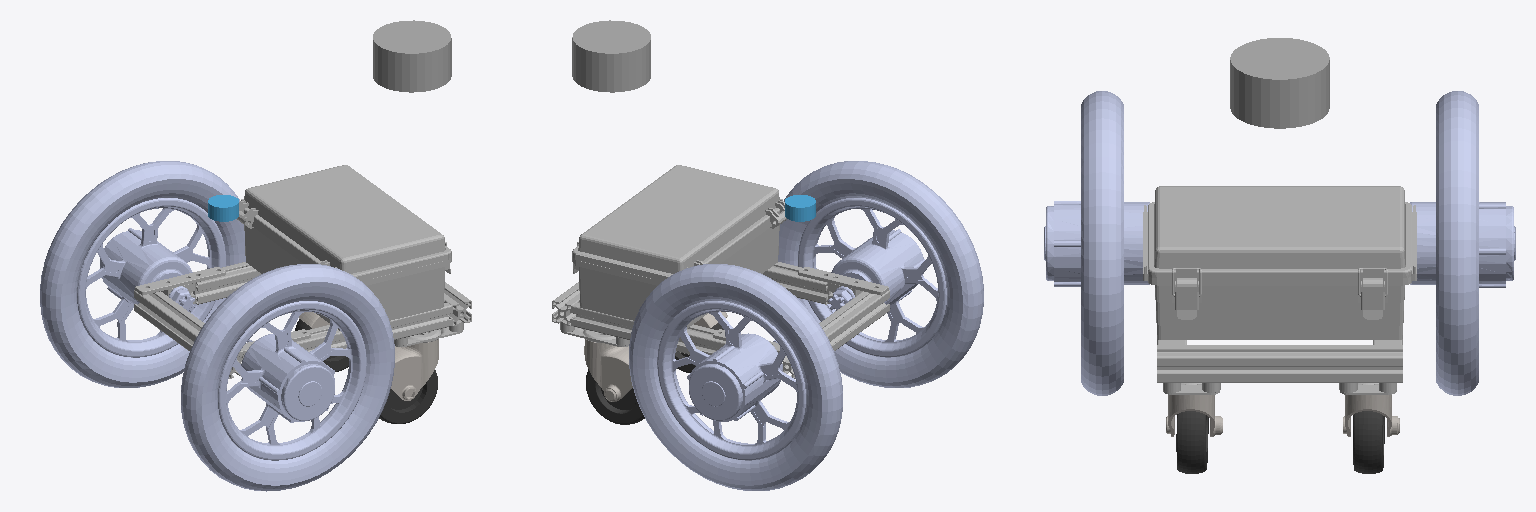
URDF robot description (atcart_basic_gazebo):
<?xml version="1.0" encoding="utf-8"?>
<!-- This URDF was automatically created by SolidWorks to URDF Exporter! Originally created by [author] ([email redacted]) 
     Commit Version: 1.6.0-1-g15f4949  Build Version: 1.6.7594.29634
     For more information, please see http://wiki.ros.org/sw_urdf_exporter -->
<robot
  name="atcart_basic_gazebo">
  <link
    name="base_link">
    <inertial>
      <origin
        xyz="-0.0072165 -9.8416E-11 0.049749"
        rpy="0 0 0" />
      <mass
        value="5.7003" />
      <inertia
        ixx="0.045977"
        ixy="-5.8538E-09"
        ixz="-0.00017433"
        iyy="0.02225"
        iyz="-1.2093E-10"
        izz="0.062715" />
    </inertial>
    <visual>
      <origin
        xyz="0 0 0"
        rpy="0 0 0" />
      <geometry>
        <mesh
          filename="package://atcart_basic_gazebo/meshes/base_link.STL" />
      </geometry>
      <material
        name="">
        <color
          rgba="0.75294 0.75294 0.75294 1" />
      </material>
    </visual>
    <collision>
      <origin
        xyz="-0.09 0 0.044"
        rpy="0 0 0" />
      <geometry>
        <box size="0.48 0.26 0.18"/>
      </geometry>
    </collision>
  </link>
  <link
    name="caster_holder_left">
    <inertial>
      <origin
        xyz="-0.02177 0.0014053 0.046067"
        rpy="0 0 0" />
      <mass
        value="0.32044" />
      <inertia
        ixx="0.00025526"
        ixy="3.2464E-06"
        ixz="-5.7646E-05"
        iyy="0.00031844"
        iyz="1.5351E-05"
        izz="0.00028574" />
    </inertial>
    <visual>
      <origin
        xyz="0 0 0"
        rpy="0 0 0" />
      <geometry>
        <mesh
          filename="package://atcart_basic_gazebo/meshes/caster_holder_left.STL" />
      </geometry>
      <material
        name="">
        <color
          rgba="0.77647 0.75686 0.73725 1" />
      </material>
    </visual>
    <collision>
      <origin
        xyz="0 0 0.07"
        rpy="0 0 0" />
      <geometry>
        <cylinder length="0.025" radius="0.03"/>
      </geometry>
    </collision>
  </link>
  <joint
    name="caster_holder_left_joint"
    type="continuous">
    <origin
      xyz="0.061 0.09 -0.1283"
      rpy="0 0 -0.02603" />
    <parent
      link="base_link" />
    <child
      link="caster_holder_left" />
    <axis
      xyz="0 0 1" />
  </joint>
  <link
    name="caster_wheel_left">
    <inertial>
      <origin
        xyz="-5.55111512312578E-17 0 3.6943163319314E-06"
        rpy="0 0 0" />
      <mass
        value="0.192088631471314" />
      <inertia
        ixx="0.000151182469566071"
        ixy="-6.99354014046243E-34"
        ixz="5.57175414480924E-19"
        iyy="0.000151182469566071"
        iyz="-1.53010454143402E-19"
        izz="0.000279600031953075" />
    </inertial>
    <visual>
      <origin
        xyz="0 0 0"
        rpy="0 0 0" />
      <geometry>
        <mesh
          filename="package://atcart_basic_gazebo/meshes/caster_wheel_left.STL" />
      </geometry>
      <material
        name="">
        <color
          rgba="0.298039215686275 0.298039215686275 0.298039215686275 1" />
      </material>
    </visual>
    <collision>
      <origin
        xyz="0 0 0"
        rpy="0 0 0" />
      <geometry>
        <cylinder length="0.04" radius="0.051"/>
      </geometry>
    </collision>
  </link>
  <joint
    name="caster_wheel_left_joint"
    type="continuous">
    <origin
      xyz="-0.029 0 0.012"
      rpy="1.5708 0 0" />
    <parent
      link="caster_holder_left" />
    <child
      link="caster_wheel_left" />
    <axis
      xyz="0 0 -1" />
  </joint>
  <link
    name="caster_holder_right">
    <inertial>
      <origin
        xyz="-0.0217591852847827 0.00155718746772504 0.0460672350911227"
        rpy="0 0 0" />
      <mass
        value="0.320441099388755" />
      <inertia
        ixx="0.000255304046268681"
        ixy="3.68752178239491E-06"
        ixz="-5.75374331188915E-05"
        iyy="0.000318389436371272"
        iyz="1.57528610382236E-05"
        izz="0.000285734524653862" />
    </inertial>
    <visual>
      <origin
        xyz="0 0 0"
        rpy="0 0 0" />
      <geometry>
        <mesh
          filename="package://atcart_basic_gazebo/meshes/caster_holder_right.STL" />
      </geometry>
      <material
        name="">
        <color
          rgba="0.776470588235294 0.756862745098039 0.737254901960784 1" />
      </material>
    </visual>
    <collision>
      <origin
        xyz="0 0 0.07"
        rpy="0 0 0" />
      <geometry>
        <cylinder length="0.025" radius="0.03"/>
      </geometry>
    </collision>
  </link>
  <joint
    name="caster_holder_right_joint"
    type="continuous">
    <origin
      xyz="0.061 -0.09 -0.1283"
      rpy="0 0 -0.02603" />
    <parent
      link="base_link" />
    <child
      link="caster_holder_right" />
    <axis
      xyz="0 0 1" />
  </joint>
  <link
    name="caster_wheel_right">
    <inertial>
      <origin
        xyz="5.55111512312578E-17 2.77555756156289E-17 3.69431633334694E-06"
        rpy="0 0 0" />
      <mass
        value="0.192088631471313" />
      <inertia
        ixx="0.000151182469566071"
        ixy="-5.54803946229349E-35"
        ixz="-1.74171149779166E-19"
        iyy="0.000151182469566071"
        iyz="-3.35336884180025E-21"
        izz="0.000279600031953075" />
    </inertial>
    <visual>
      <origin
        xyz="0 0 0"
        rpy="0 0 0" />
      <geometry>
        <mesh
          filename="package://atcart_basic_gazebo/meshes/caster_wheel_right.STL" />
      </geometry>
      <material
        name="">
        <color
          rgba="0.298039215686275 0.298039215686275 0.298039215686275 1" />
      </material>
    </visual>
    <collision>
      <origin
        xyz="0 0 0"
        rpy="0 0 0" />
      <geometry>
        <cylinder length="0.04" radius="0.051"/>
      </geometry>
    </collision>
  </link>
  <joint
    name="caster_wheel_right_joint"
    type="continuous">
    <origin
      xyz="-0.028999 0.00020234 0.012"
      rpy="1.5708 0 -0.0069773" />
    <parent
      link="caster_holder_right" />
    <child
      link="caster_wheel_right" />
    <axis
      xyz="0 0 -1" />
  </joint>
  <link
    name="rear_wheel_left">
    <inertial>
      <origin
        xyz="1.42238878086953E-06 3.65240566235769E-07 0.035018661539531"
        rpy="0 0 0" />
      <mass
        value="2.28211944233861" />
      <inertia
        ixx="0.0148991041334707"
        ixy="-1.49538564040222E-11"
        ixz="-2.45298120595338E-07"
        iyy="0.0148991148755385"
        iyz="-8.73898019013882E-09"
        izz="0.0280100112156707" />
    </inertial>
    <visual>
      <origin
        xyz="0 0 0"
        rpy="0 0 0" />
      <geometry>
        <mesh
          filename="package://atcart_basic_gazebo/meshes/rear_wheel_left.STL" />
      </geometry>
      <material
        name="">
        <color
          rgba="0.792156862745098 0.819607843137255 0.933333333333333 1" />
      </material>
    </visual>
    <collision>
      <origin
        xyz="0 0.0 0.03"
        rpy="0 0 0" />
      <geometry>
        <cylinder length="0.1143" radius="0.16"/>
      </geometry>
    </collision>
  </link>
  <joint
    name="rear_wheel_left_joint"
    type="continuous">
    <origin
      xyz="-0.189 0.21606 -0.015"
      rpy="1.5708 0.071178 0" />
    <parent
      link="base_link" />
    <child
      link="rear_wheel_left" />
    <axis
      xyz="0 0 -1" />
  </joint>
  <link
    name="rear_wheel_right">
    <inertial>
      <origin
        xyz="1.4236E-06 -3.6567E-07 0.10553"
        rpy="0 0 0" />
      <mass
        value="2.2821" />
      <inertia
        ixx="0.014899"
        ixy="-1.2769E-11"
        ixz="2.4534E-07"
        iyy="0.014899"
        iyz="-8.7567E-09"
        izz="0.02801" />
    </inertial>
    <visual>
      <origin
        xyz="0 0 0"
        rpy="0 0 0" />
      <geometry>
        <mesh
          filename="package://atcart_basic_gazebo/meshes/rear_wheel_right.STL" />
      </geometry>
      <material
        name="">
        <color
          rgba="0.79216 0.81961 0.93333 1" />
      </material>
    </visual>
    <collision>
      <origin
        xyz="0 0 0.11"
        rpy="0 0 0" />
      <geometry>
        <cylinder length="0.1143" radius="0.16"/>
      </geometry>
    </collision>
  </link>
  <joint
    name="rear_wheel_right_joint"
    type="continuous">
    <origin
      xyz="-0.189 -0.075512 -0.015"
      rpy="1.5708 -0.74326 0" />
    <parent
      link="base_link" />
    <child
      link="rear_wheel_right" />
    <axis
      xyz="0 0 -1" />
  </joint>

  <!-- Lidar link and joint -->
  <link name="lidar_link">
    <inertial>
      <origin xyz="0 0 0" rpy="0 0 0"/>
      <mass value="0.01"/>
      <inertia ixx="0.00001"  ixy="0"  ixz="0" iyy="0.00001" iyz="0" izz="0.00001" />
    </inertial>

    <collision>
      <origin xyz="0 0 0" rpy="0 0 0"/>
      <geometry>
         <cylinder radius="0.0508" length="0.055"/>
      </geometry>
    </collision>

    <visual>
      <origin xyz="0 0 0" rpy="0 0 0"/>
      <geometry>
         <cylinder radius="0.0508" length="0.055"/>
      </geometry>
    </visual>
  </link>
  <joint name="lidar_joint" type="fixed">
    <parent link="base_link"/>
    <child link="lidar_link"/>
    <origin xyz="0.1 0.0 0.3" rpy="0 0 0"/>
  </joint>

  <!-- IMU link and joint -->
  <link name="imu_link" />
  <joint name="imu_joint" type="fixed">
    <parent link="base_link" />
    <child link="imu_link" />
  </joint>

  <link name="gps1">
    <inertial>
      <origin xyz="0 0 0" rpy="0 0 0"/>
      <mass value="0.01"/>
      <inertia ixx="0.00001"  ixy="0"  ixz="0" iyy="0.00001" iyz="0" izz="0.00001" />
    </inertial>

    <collision>
      <origin xyz="0 0 0" rpy="0 0 0"/>
      <geometry>
         <cylinder radius="0.020" length="0.020"/>
      </geometry>
    </collision>

    <visual>
      <origin xyz="0 0 0" rpy="0 0 0"/>
      <geometry>
         <cylinder radius="0.020" length="0.020"/>
      </geometry>
    </visual>
  </link>
  <joint name="gps_joint" type="fixed">
    <parent link="base_link"/>
    <child link="gps1"/>
    <origin xyz="-0.18 0.0 0.15" rpy="0 0 0"/>
  </joint>

  <gazebo>
    <plugin name="differential_drive_controller" filename="libgazebo_ros_diff_drive.so">
      <alwaysOn>true</alwaysOn>
      <updateRate>40</updateRate>
      <legacyMode>false</legacyMode>
      <leftJoint>rear_wheel_left_joint</leftJoint>
      <rightJoint>rear_wheel_right_joint</rightJoint>
      <wheelSeparation>0.362</wheelSeparation>
      <wheelDiameter>0.310</wheelDiameter>
      <torque>30</torque>
      <commandTopic>cmd_vel</commandTopic>
      <odometryTopic>odom</odometryTopic>
      <odometryFrame>odom</odometryFrame>
      <robotBaseFrame>base_link</robotBaseFrame>
      <publishWheelTF>false</publishWheelTF>
      <publishWheelJointState>false</publishWheelJointState>
      <rosDebugLevel>na</rosDebugLevel>
      <wheelAcceleration>0</wheelAcceleration>
      <wheelTorque>30</wheelTorque>
      <odometrySource>world</odometrySource>
      <publishOdomTF>true</publishOdomTF>
      <publishTf>1</publishTf>
    </plugin>
  </gazebo>


  <gazebo reference="lidar_link">
    <sensor name="lidar" type="gpu_ray">
      <always_on>true</always_on>
      <visualize>false</visualize>
      <update_rate>5</update_rate>
      <ray>
        <scan>
          <horizontal>
            <samples>2019</samples>
            <resolution>1.000000</resolution>
            <min_angle>-3.14159274101</min_angle>
            <max_angle>3.14159274101</max_angle>
          </horizontal>
        </scan>
        <range>
          <min>0.100000</min>
          <max>30.0</max>
          <resolution>0.015000</resolution>
        </range>
        <noise>
          <type>gaussian</type>
          <mean>0.0</mean>
          <stddev>0.01</stddev>
        </noise>
      </ray>
      <!-- <plugin name="scan" filename="libgazebo_ros_ray_sensor.so"> -->
      <!-- this answer seems to make scan topic appear on ros https://answers.ros.org/question/273492/laserscanner-in-gazebo-does-not-publish-data-while-topic-is-set/ -->
      <!-- <plugin name="scan" filename="libgazebo_ros_laser.so"> -->
      <plugin name="scan" filename="libgazebo_ros_gpu_laser.so">
        <!-- <ros>
          <remapping>~/out:=scan</remapping>
        </ros>
        <output_type>sensor_msgs/LaserScan</output_type> -->
        <topicName>scan</topicName>
        <frame_name>lidar_link</frame_name>
      </plugin>
    </sensor>
  </gazebo>

  <gazebo reference="imu_link">
    <sensor name="imu_sensor" type="imu">
      <always_on>true</always_on>
      <update_rate>100</update_rate>
      <visualize>true</visualize>
      <topic>__default_topic__</topic>
      <plugin filename="libgazebo_ros_imu_sensor.so" name="imu_plugin">
        <topicName>imu</topicName>
        <bodyName>imu_link</bodyName>
        <updateRateHZ>100.0</updateRateHZ>
        <gaussianNoise>0.0</gaussianNoise>
        <xyzOffset>0 0 0</xyzOffset>
        <rpyOffset>0 0 0</rpyOffset>
        <frameName>imu_link</frameName>
        <initialOrientationAsReference>false</initialOrientationAsReference>
      </plugin>
      <pose>0 0 0 0 0 0</pose>
    </sensor>
  </gazebo>

  <gazebo>  
    <plugin name="gps" filename="libhector_gazebo_ros_gps.so">  
      <updateRate>10.0</updateRate>  
      <topicName>ublox/fix</topicName>  
      <gaussianNoise>0.0 0.0 0.0</gaussianNoise>  
      <offset>0 0 0</offset>
      <referenceLatitude>36.1209271</referenceLatitude>
      <referenceLongitude>139.2158217</referenceLongitude>
      <status>2</status>
      <velocityGaussianNoise>0 0 0</velocityGaussianNoise>  
      <velocityTopicName>ublox/fix_velocity_temp</velocityTopicName>
      <frameId>gps_link</frameId>  
    </plugin>  
  </gazebo>

</robot>

--- Facts derived from the render (not from the file) ---
Views: 3 orthographic renders of the robot side by side, from view 1: azimuth 30°, elevation 25°; view 2: azimuth 150°, elevation 25°; view 3: azimuth 270°, elevation 25°.
Model atcart_basic_gazebo with 10 links and 9 joints (6 continuous, 3 fixed), rooted at base_link, posed every joint at zero.
Visible links, largest first — view 1: rear_wheel_right, base_link, rear_wheel_left, lidar_link, caster_holder_right, caster_wheel_right, gps1; view 2: rear_wheel_left, base_link, rear_wheel_right, lidar_link, caster_holder_left, caster_wheel_left, gps1; view 3: base_link, rear_wheel_right, rear_wheel_left, lidar_link, caster_wheel_right, caster_wheel_left, caster_holder_right, caster_holder_left.
Link boxes in pixels (left/top/right/bottom): rear_wheel_right: left=181, top=264, right=394, bottom=491; base_link: left=134, top=165, right=471, bottom=378; rear_wheel_left: left=40, top=161, right=245, bottom=387; lidar_link: left=373, top=20, right=451, bottom=92; caster_holder_right: left=391, top=339, right=438, bottom=400; caster_wheel_right: left=379, top=370, right=437, bottom=423; gps1: left=208, top=195, right=238, bottom=221; rear_wheel_left: left=629, top=264, right=842, bottom=490; base_link: left=552, top=165, right=889, bottom=378; rear_wheel_right: left=778, top=161, right=983, bottom=387; lidar_link: left=572, top=20, right=650, bottom=92; caster_holder_left: left=584, top=339, right=632, bottom=401; caster_wheel_left: left=586, top=369, right=644, bottom=424; gps1: left=785, top=195, right=815, bottom=221; base_link: left=1143, top=186, right=1416, bottom=394; rear_wheel_right: left=1044, top=91, right=1149, bottom=395; rear_wheel_left: left=1410, top=91, right=1515, bottom=395; lidar_link: left=1230, top=38, right=1329, bottom=128; caster_wheel_right: left=1176, top=411, right=1208, bottom=473; caster_wheel_left: left=1353, top=411, right=1384, bottom=473; caster_holder_right: left=1166, top=395, right=1222, bottom=436; caster_holder_left: left=1343, top=395, right=1399, bottom=436.
Bounding box of the posed robot: 0.4956 × 0.48 × 0.4983 m (x, y, z).
7 mesh visuals loaded from 7 distinct referenced files (7 binary STL).
